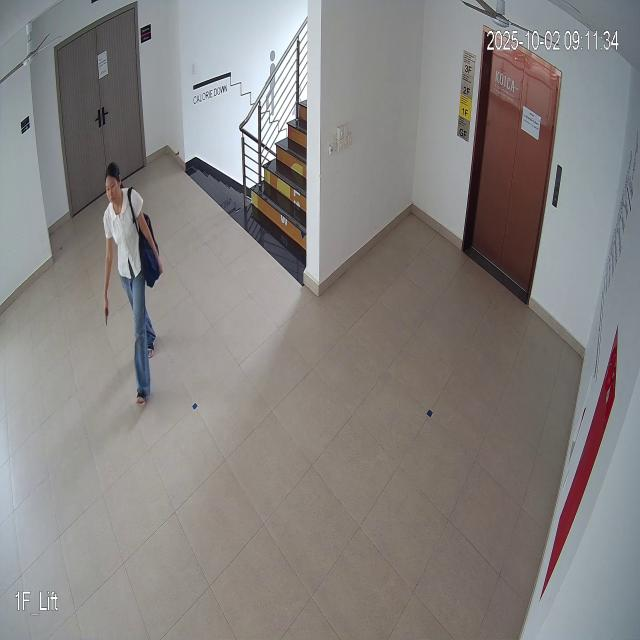face: (104, 156, 124, 210)
